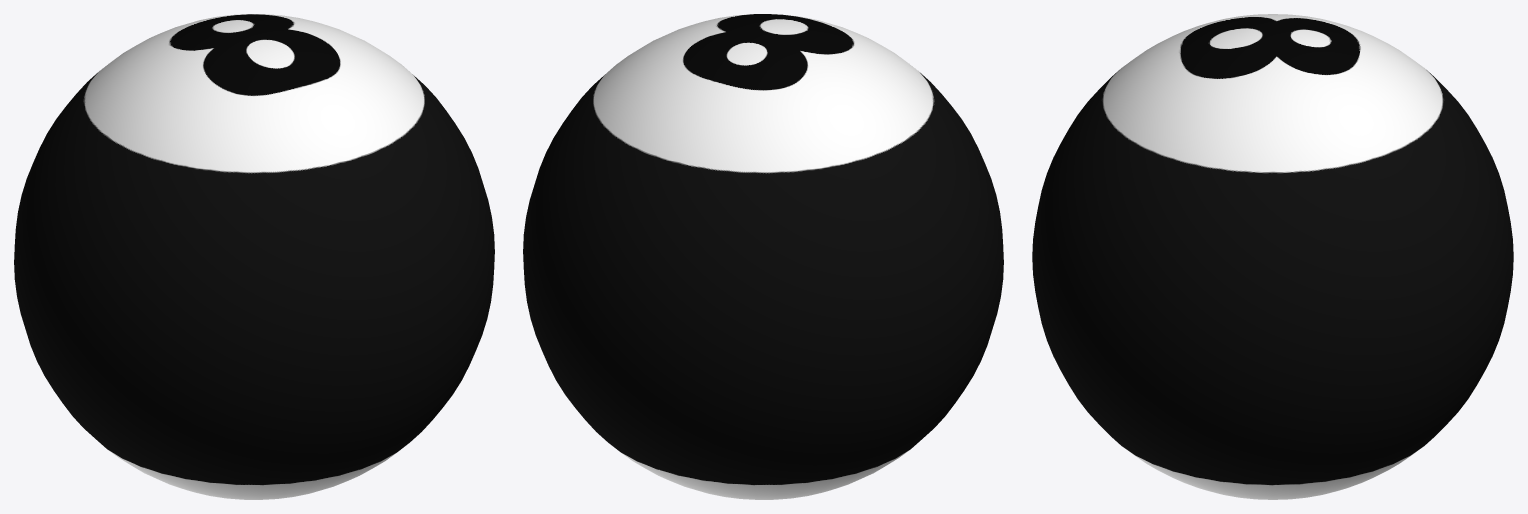
3 views of the same model, side by side, from view 1: azimuth 30°, elevation 25°; view 2: azimuth 150°, elevation 25°; view 3: azimuth 270°, elevation 25° (orthographic).
Visible parts, largest first — view 1: 8-eight; view 2: 8-eight; view 3: 8-eight.
Part boxes in pixels (x1,y1,x2,y2): 8-eight: (14,14,494,499); 8-eight: (523,14,1003,499); 8-eight: (1032,14,1513,499).
Size of the model in its own units: 0.5015 by 0.5088 by 0.5015.
1 material, 1 textured.
